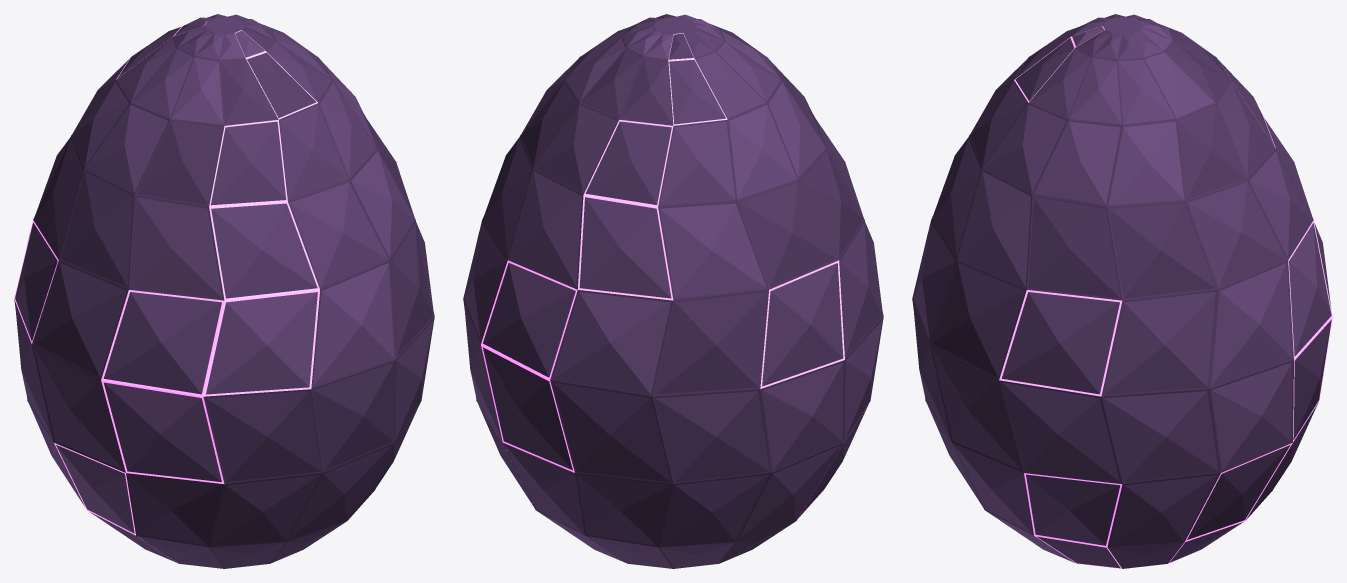
Rendered from dark_dragon_egg.glb.
3 renders of one model, left to right at view 1: azimuth 30°, elevation 25°; view 2: azimuth 150°, elevation 25°; view 3: azimuth 270°, elevation 25°, orthographic.
Size of the model in its own units: 0.7363 by 0.975 by 0.7363.
